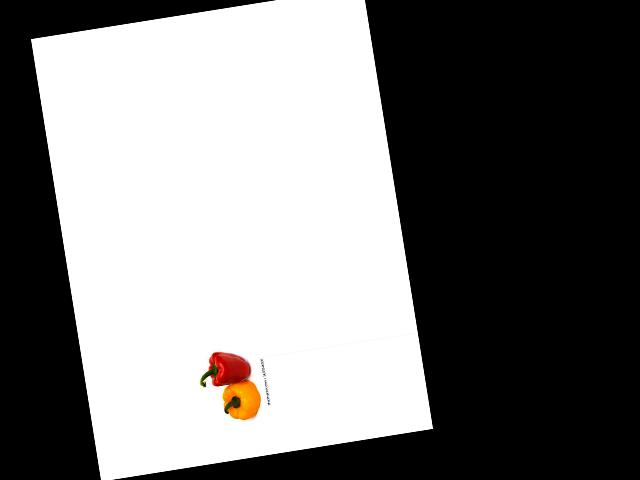bell_pepper: (216, 376, 267, 425)
